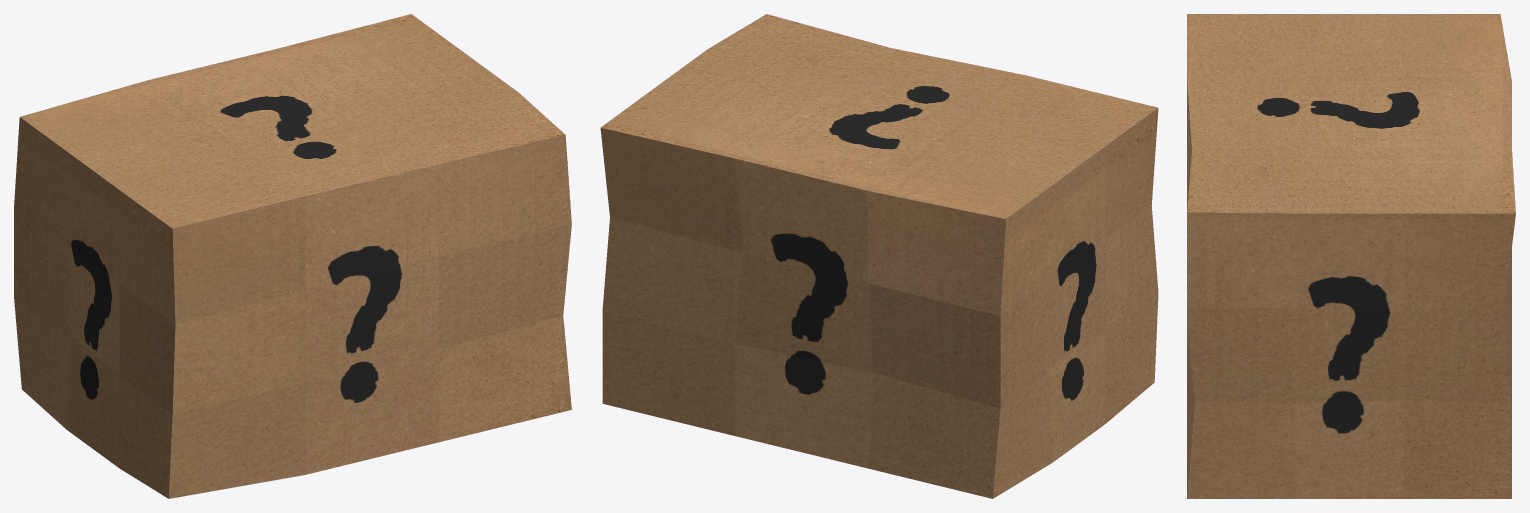
Rendered from Mystery.fbx.
3 views of the same model, side by side, from view 1: azimuth 30°, elevation 25°; view 2: azimuth 150°, elevation 25°; view 3: azimuth 270°, elevation 25° (orthographic). The views are drawn at different scales.
Parts seen in each view (by area): view 1: pCube1; view 2: pCube1; view 3: pCube1.
Part boxes in pixels (x1=…): pCube1: x1=14, y1=14, x2=571, y2=498; pCube1: x1=600, y1=14, x2=1158, y2=498; pCube1: x1=1187, y1=14, x2=1515, y2=498.
Bounding box in the file's own units: 4.16 × 2.77 × 2.9.
Materials: 1 (1 with a texture image).
